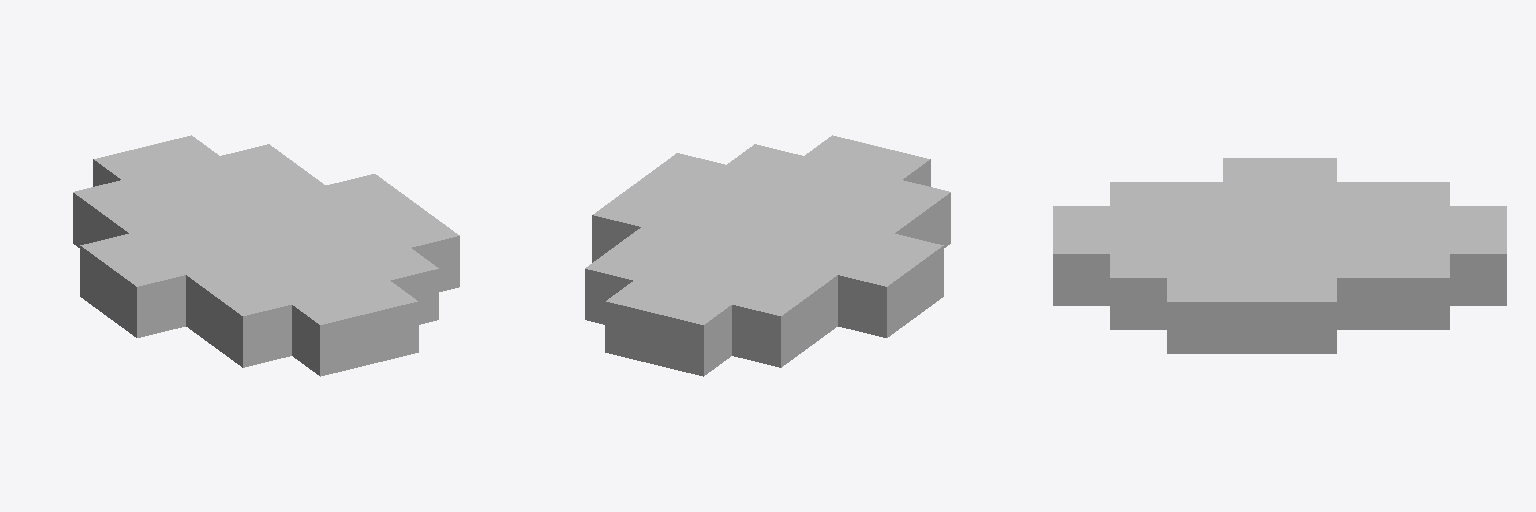
Rendered from cloud2.obj.
The picture shows the model from 3 angles: view 1: azimuth 30°, elevation 25°; view 2: azimuth 150°, elevation 25°; view 3: azimuth 270°, elevation 25°; orthographic projection.
Visible parts, largest first — view 1: Cube.001_Cube.151; view 2: Cube.001_Cube.151; view 3: Cube.001_Cube.151.
Part boxes in pixels (x1,y1,x2,y2): Cube.001_Cube.151: (73,135,459,376); Cube.001_Cube.151: (585,135,950,376); Cube.001_Cube.151: (1053,158,1506,353).
Size of the model in its own units: 12 by 2 by 16.